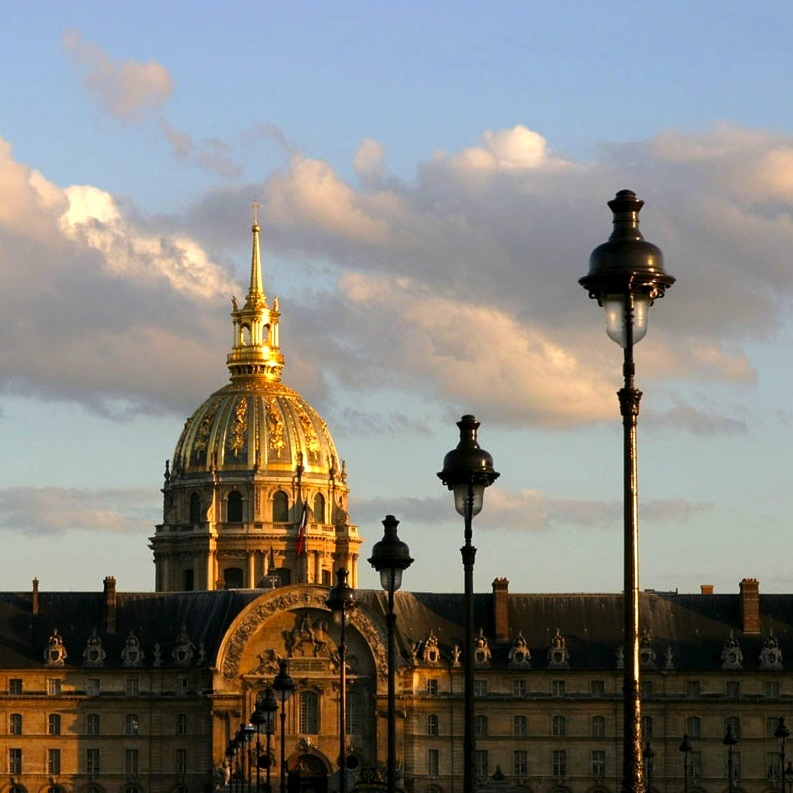fachada: (0, 180, 793, 793)
poste: (570, 170, 696, 793), (434, 402, 518, 793), (364, 508, 434, 788), (312, 552, 378, 792), (268, 658, 314, 793), (248, 688, 276, 793), (204, 738, 248, 793)
